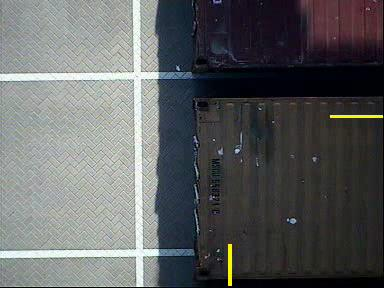groundmarker_2: (120, 33, 216, 94), (117, 154, 213, 215)
